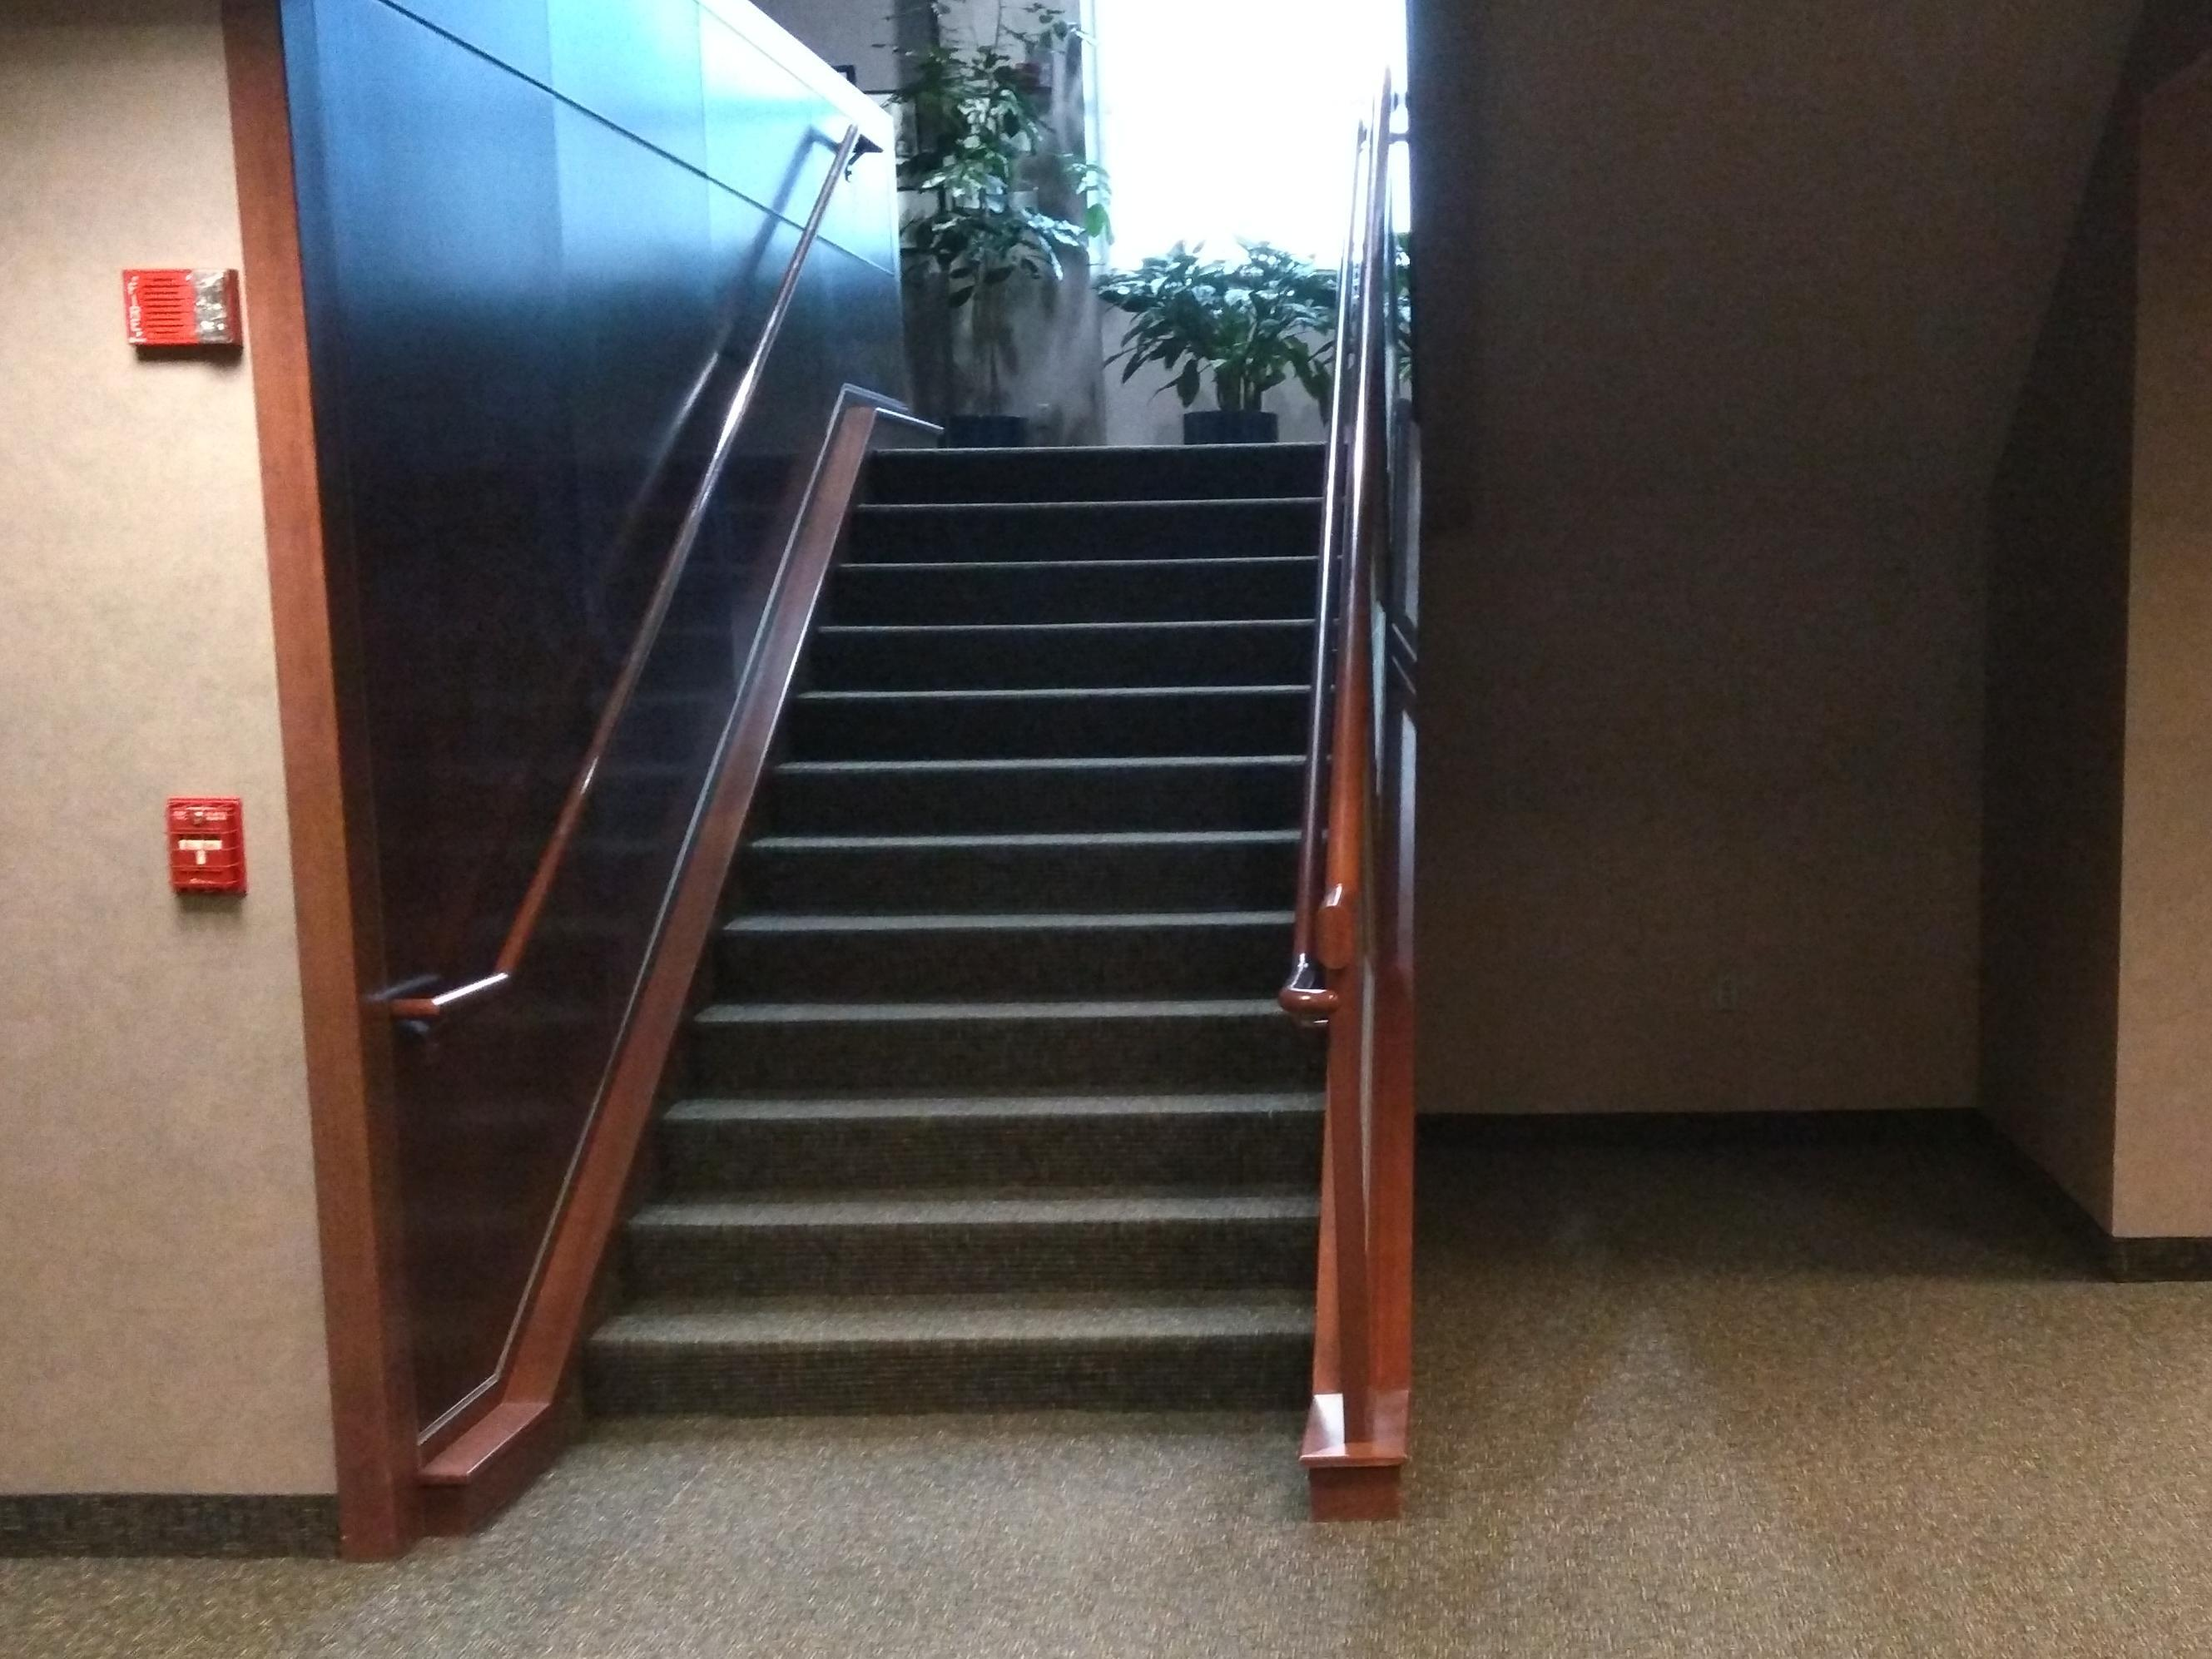stairs_up: (593, 408, 1342, 1478)
